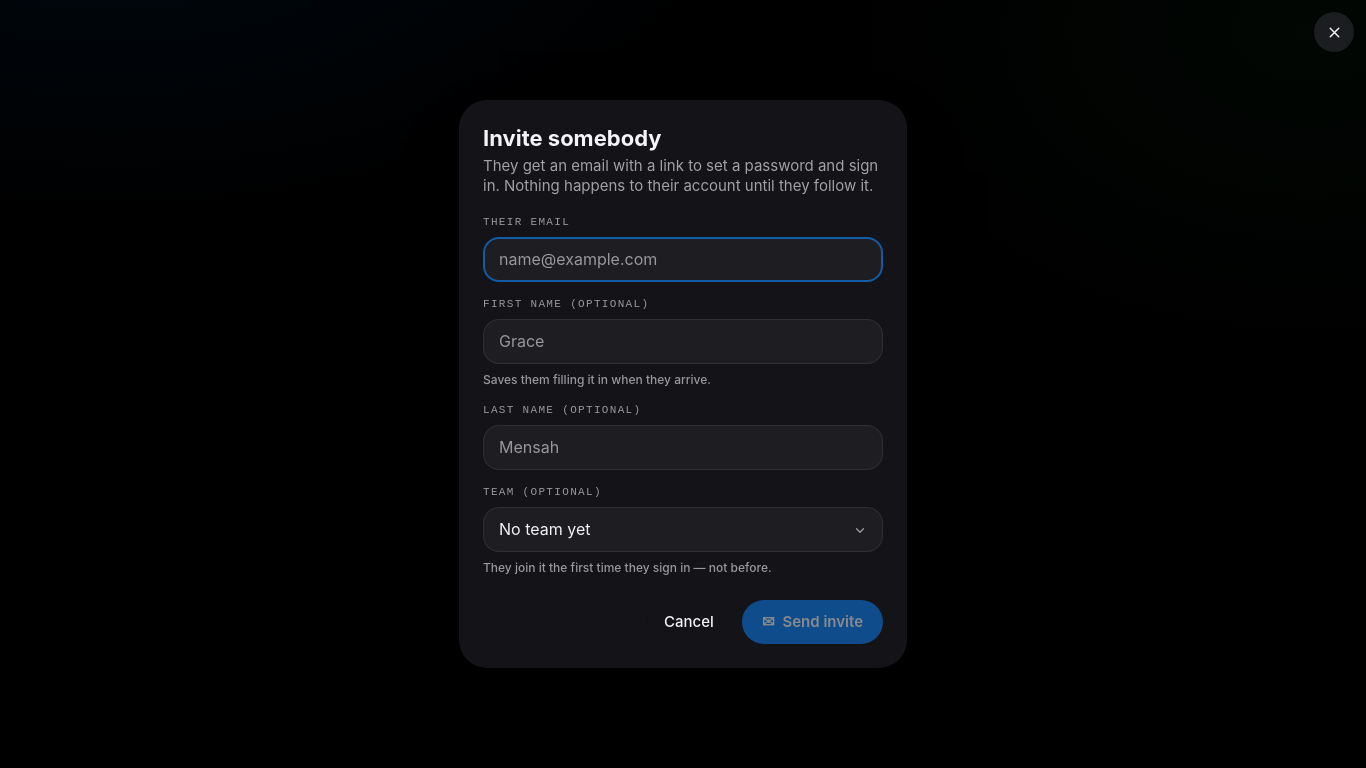
Scenario: InviteDialog › asks core or guest once there is a team to join, and not before
Expected: the dropdown labelled "On the team as" is not shown
Click the dropdown.
click(545, 529)  # box top-left (483, 507), bottom-right (883, 552)
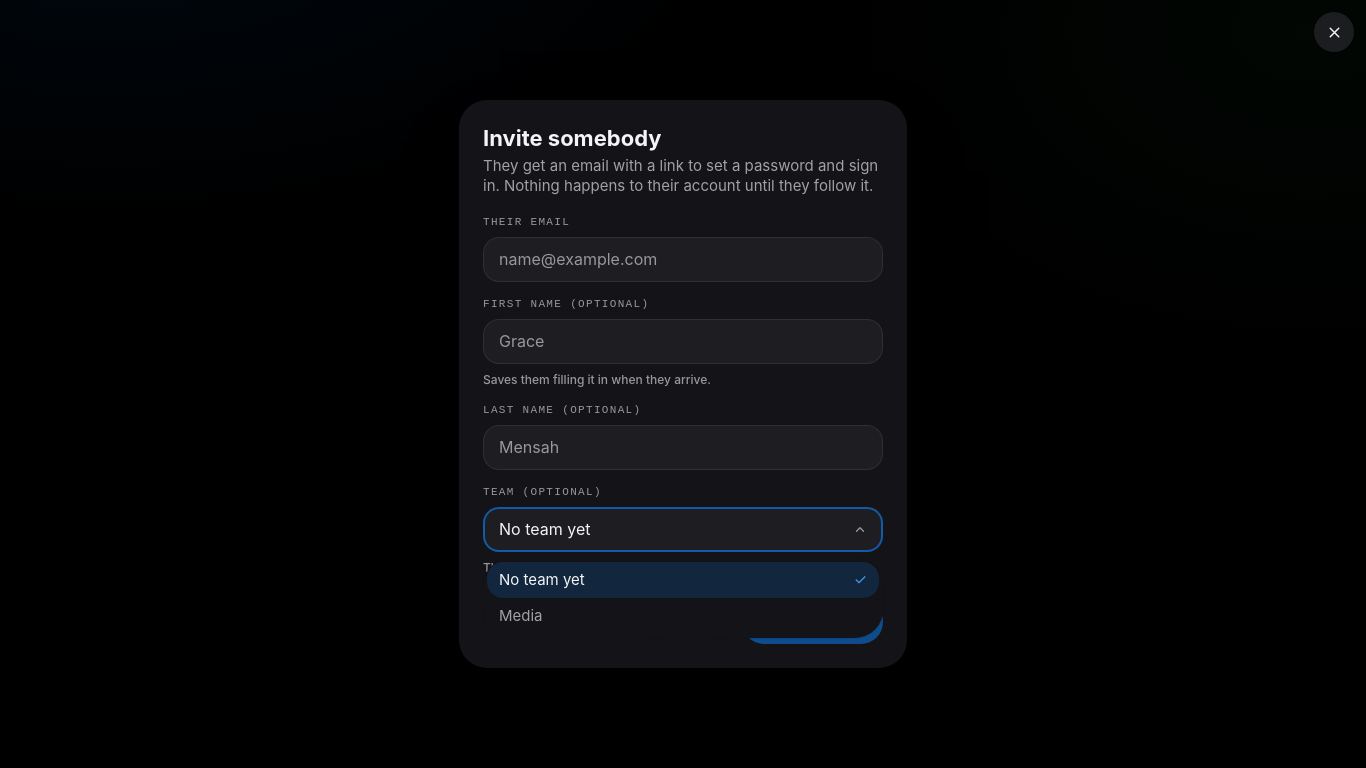
Click the option "Media".
click(521, 616)  # box top-left (499, 606), bottom-right (542, 625)
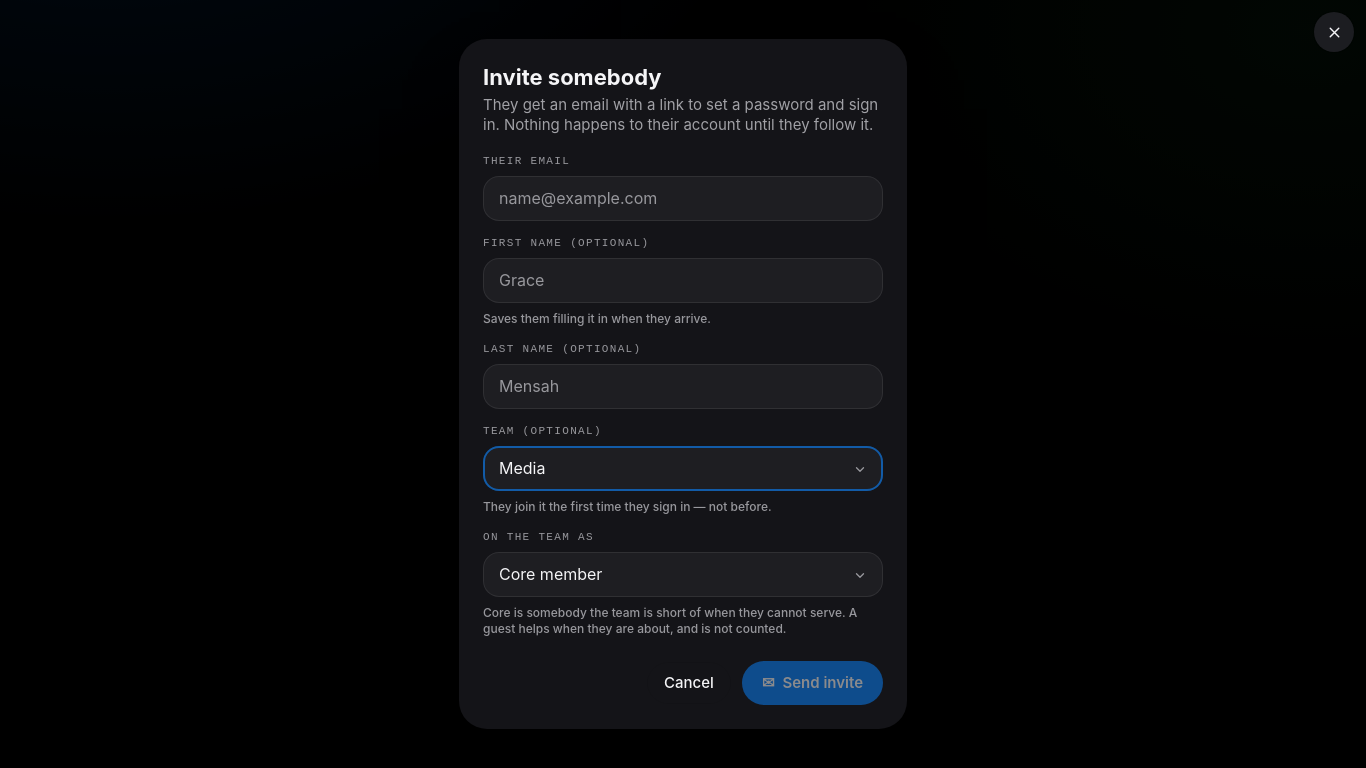
Expected: the dropdown named "On the team as" is shown, top-left (483, 552), bottom-right (883, 597)
